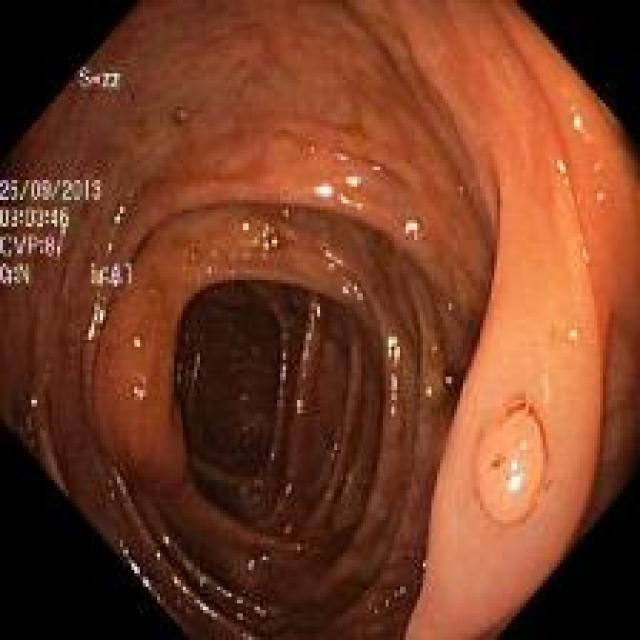Polyps: (475, 401, 546, 524)
